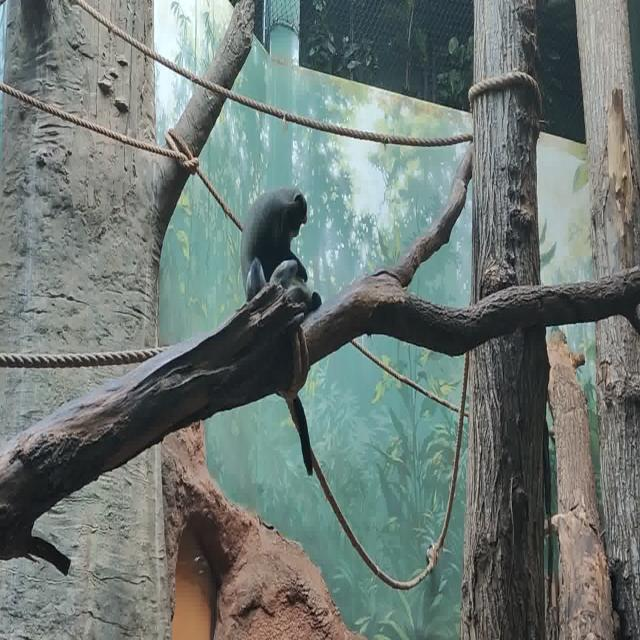monkey: (240, 188, 308, 302)
